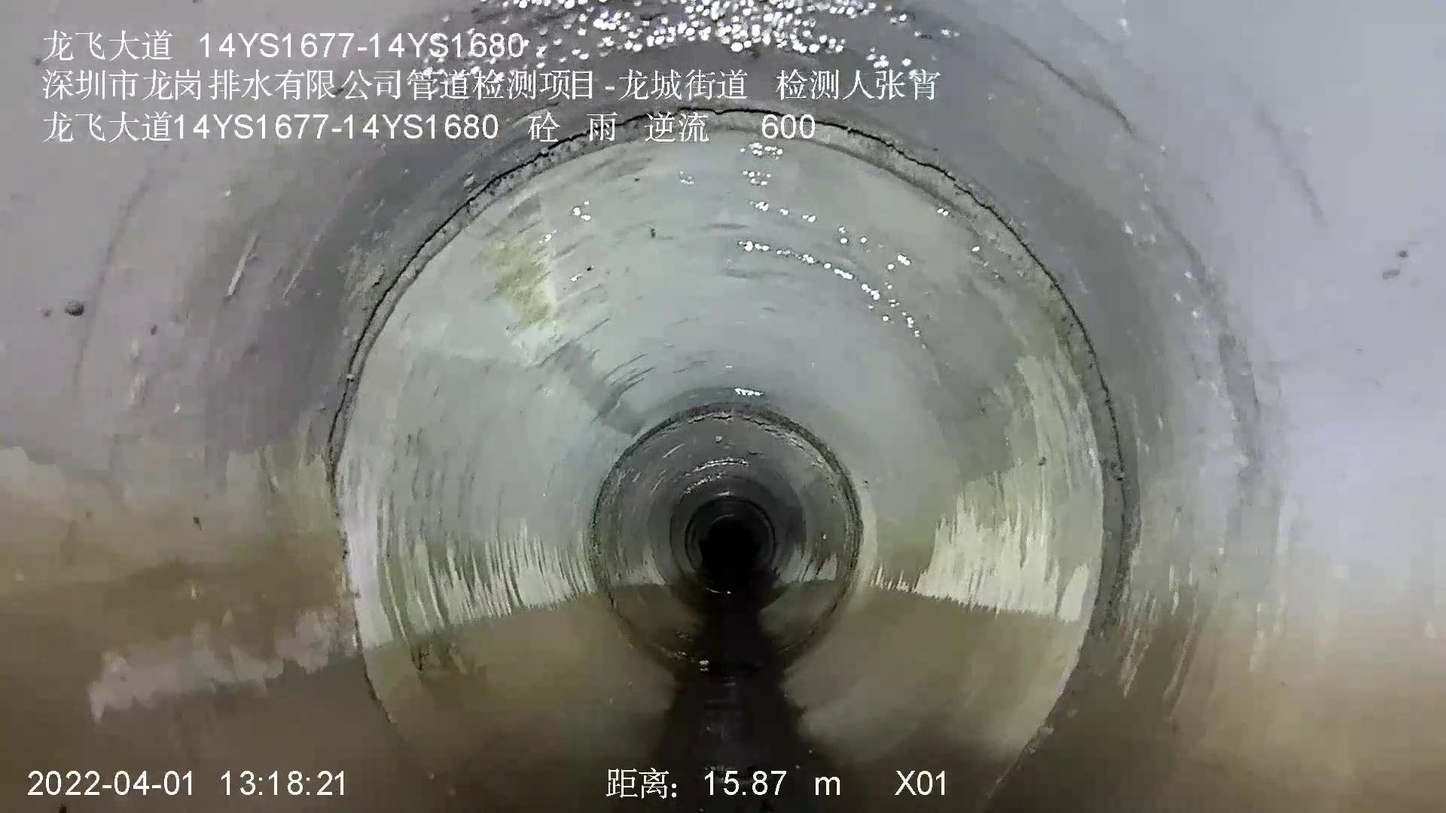CKTJ: (328, 108, 1139, 641)
